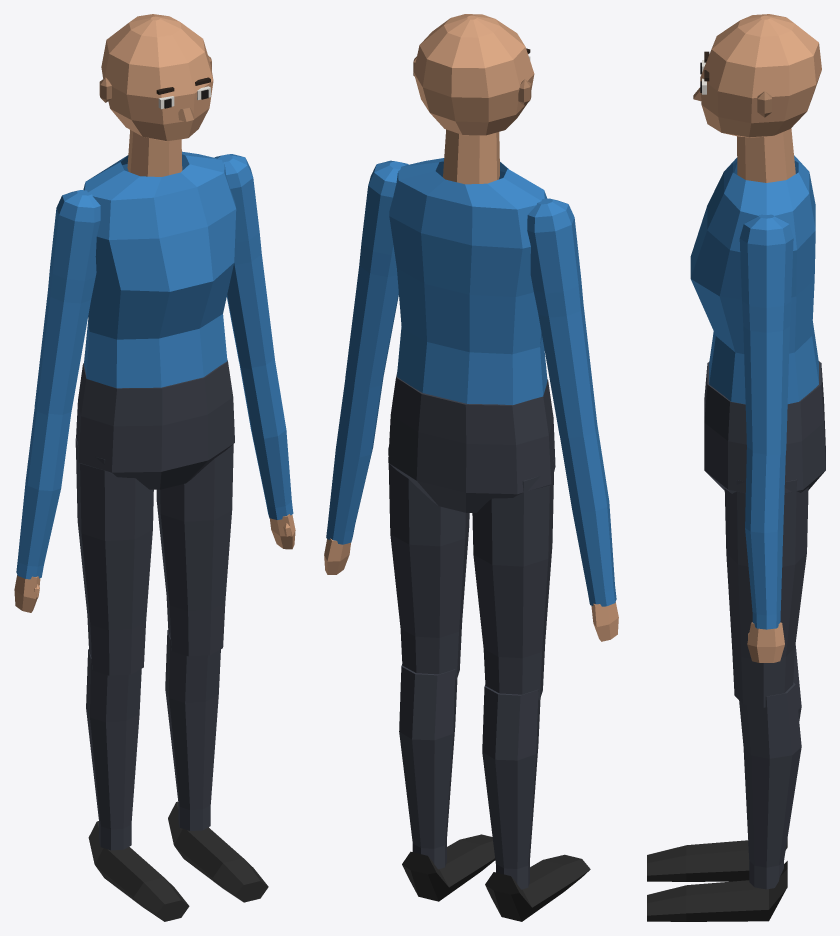
File: ado_f_mince.glb
3 renders of one model, left to right at view 1: azimuth 30°, elevation 25°; view 2: azimuth 150°, elevation 25°; view 3: azimuth 270°, elevation 25°, orthographic. The views are drawn at different scales.
Parts seen in each view (by area): view 1: torse, bassin, tete, jambe_d, jambe_g, tibia_d, tibia_g, bras_d, bras_g, avant_bras_d, avant_bras_g; view 2: torse, bassin, tete, jambe_d, tibia_d, tibia_g, jambe_g, bras_d, bras_g, avant_bras_d, avant_bras_g; view 3: torse, tete, tibia_g, bras_g, jambe_g, bassin, avant_bras_g, tibia_d.
Boxes of the visible parts, left/top/right/bottom form: torse: left=83, top=151, right=236, bottom=388; bassin: left=75, top=360, right=234, bottom=489; tete: left=99, top=14, right=213, bottom=176; jambe_d: left=75, top=438, right=153, bottom=675; jambe_g: left=156, top=444, right=233, bottom=656; tibia_d: left=86, top=649, right=189, bottom=921; tibia_g: left=165, top=630, right=268, bottom=902; bras_d: left=34, top=190, right=100, bottom=415; bras_g: left=214, top=154, right=274, bottom=369; avant_bras_d: left=14, top=408, right=71, bottom=612; avant_bras_g: left=239, top=359, right=295, bottom=549; torse: left=389, top=158, right=547, bottom=404; bassin: left=388, top=372, right=555, bottom=512; tete: left=413, top=14, right=534, bottom=184; jambe_d: left=472, top=459, right=554, bottom=700; tibia_d: left=482, top=685, right=590, bottom=921; tibia_g: left=399, top=664, right=495, bottom=901; jambe_g: left=388, top=447, right=469, bottom=679; bras_d: left=527, top=198, right=597, bottom=437; bras_g: left=345, top=160, right=408, bottom=388; avant_bras_d: left=559, top=425, right=618, bottom=641; avant_bras_g: left=324, top=378, right=383, bottom=574; torse: left=690, top=155, right=818, bottom=404; tete: left=693, top=14, right=821, bottom=182; tibia_g: left=647, top=682, right=801, bottom=921; bras_g: left=739, top=214, right=793, bottom=455; jambe_g: left=724, top=479, right=808, bottom=707; bassin: left=704, top=361, right=825, bottom=493; avant_bras_g: left=745, top=447, right=785, bottom=662; tibia_d: left=647, top=645, right=801, bottom=881.
Size of the model in its own units: 0.5366 by 1.59 by 0.2926.
1 material, 1 textured.
